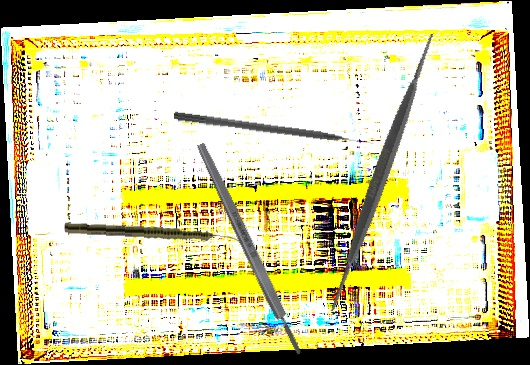Handpiece: (63, 222, 244, 245)
Pusher: (173, 110, 375, 151)
Scalpel Handle: (194, 140, 306, 358)
Spatula Surgical: (237, 26, 529, 318)
